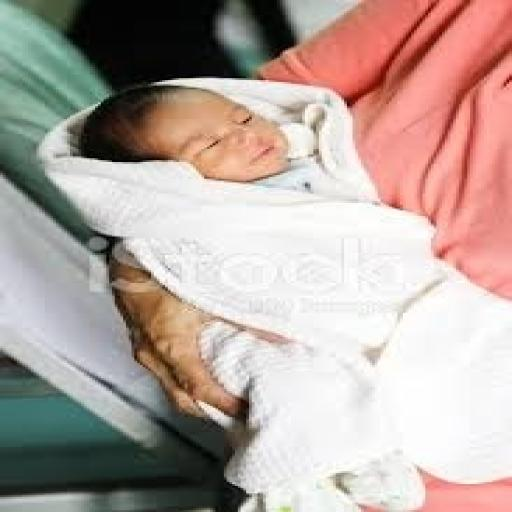sleeping: (67, 0, 509, 510)
